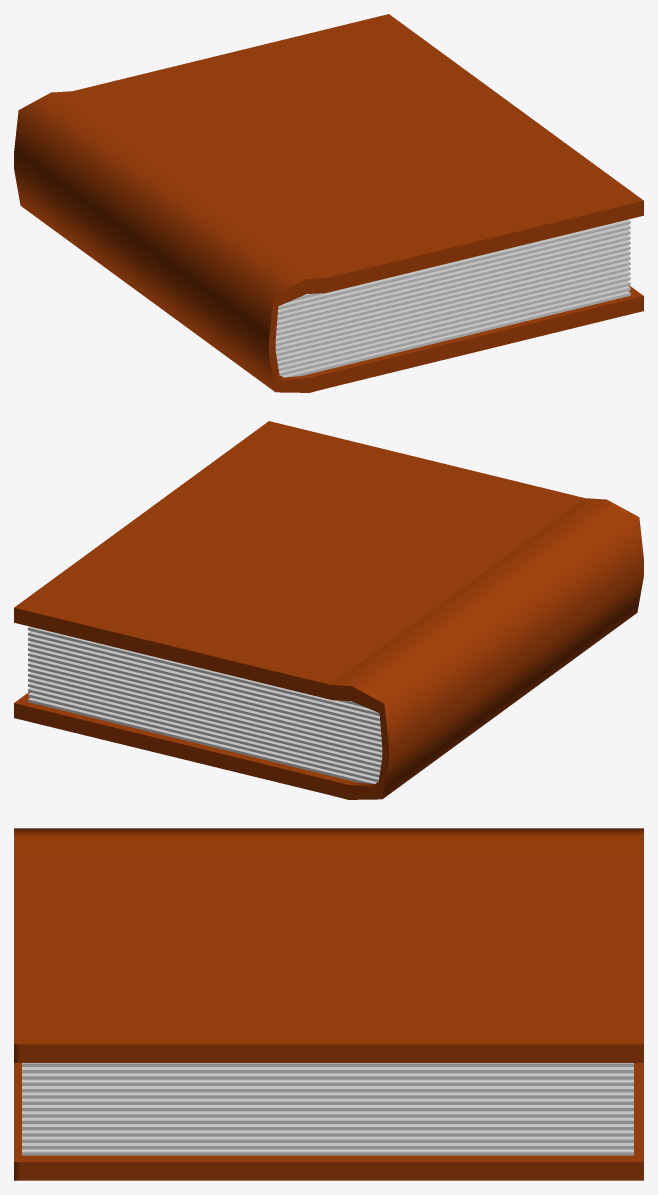
Rendered from libroloco.fbx.
3 views of the same model, one above another, from view 1: azimuth 30°, elevation 25°; view 2: azimuth 150°, elevation 25°; view 3: azimuth 270°, elevation 25° (orthographic). The views are drawn at different scales.
Parts seen in each view (by area): view 1: book close_paper.016; view 2: book close_paper.016; view 3: book close_paper.016.
Part boxes in pixels (bbox=[...]): book close_paper.016: bbox=[14, 14, 643, 392]; book close_paper.016: bbox=[14, 421, 643, 799]; book close_paper.016: bbox=[14, 828, 643, 1180].
Size of the model in its own units: 12.63 by 3.69 by 14.88.
